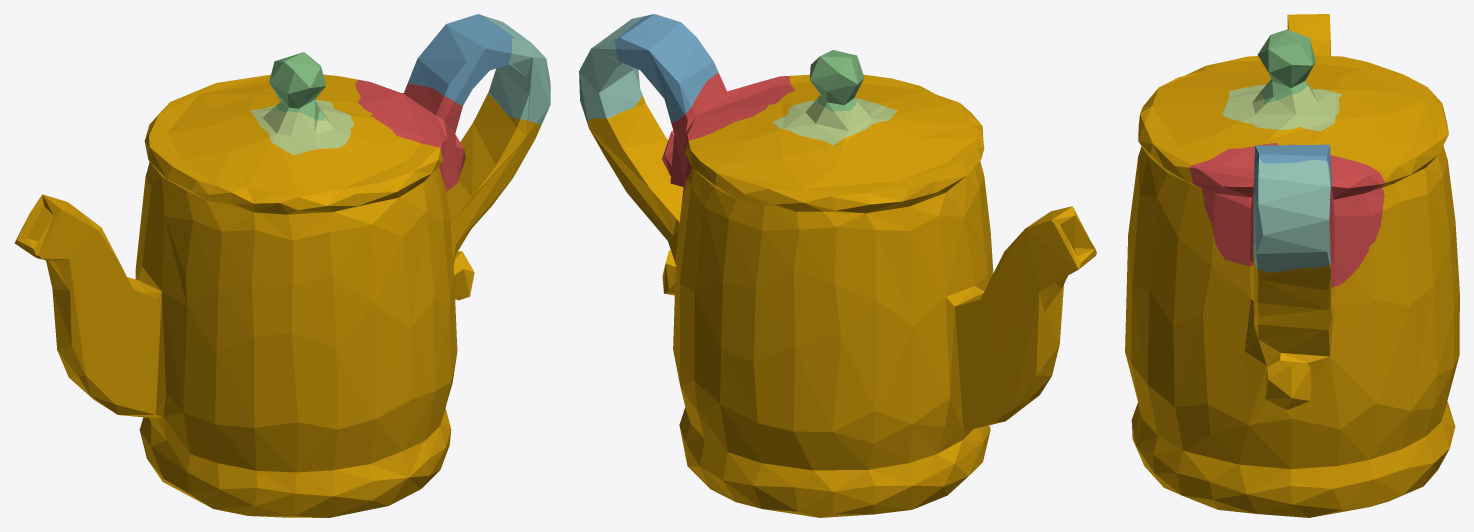
The model's file is mode_14_6pcs.glb.
The picture shows the model from 3 angles, left to right: view 1: azimuth 30°, elevation 25°; view 2: azimuth 150°, elevation 25°; view 3: azimuth 270°, elevation 25°; orthographic projection. The views are drawn at different scales.
Visible parts, largest first — view 1: piece_0.obj, piece_2.obj, piece_1.obj, piece_4.obj, piece_5.obj, piece_3.obj; view 2: piece_0.obj, piece_2.obj, piece_1.obj, piece_4.obj, piece_5.obj, piece_3.obj; view 3: piece_0.obj, piece_1.obj, piece_4.obj, piece_5.obj, piece_3.obj, piece_2.obj.
Boxes of the visible parts, <box> form: piece_0.obj: <box>14,74,541,517</box>; piece_2.obj: <box>407,14,514,105</box>; piece_1.obj: <box>355,79,465,191</box>; piece_4.obj: <box>483,15,550,125</box>; piece_5.obj: <box>250,99,354,155</box>; piece_3.obj: <box>269,52,325,120</box>; piece_0.obj: <box>586,74,1096,517</box>; piece_2.obj: <box>614,14,718,122</box>; piece_1.obj: <box>662,72,794,199</box>; piece_4.obj: <box>579,15,649,120</box>; piece_5.obj: <box>773,98,897,145</box>; piece_3.obj: <box>809,50,864,111</box>; piece_0.obj: <box>1125,14,1459,517</box>; piece_1.obj: <box>1190,143,1384,287</box>; piece_4.obj: <box>1253,158,1330,271</box>; piece_5.obj: <box>1222,82,1342,131</box>; piece_3.obj: <box>1257,29,1315,103</box>; piece_2.obj: <box>1254,144,1331,195</box>.
Bounding box in the file's own units: 1 × 0.7646 × 0.5538.
